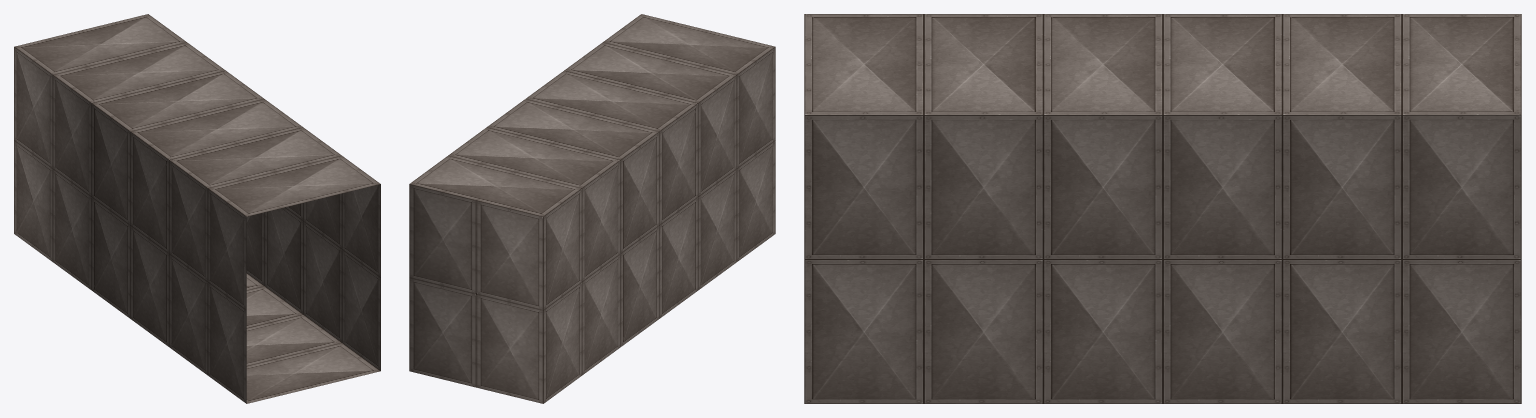
File: AirDuct_Straight_Start.FBX
3 views of the same model, side by side, from view 1: azimuth 30°, elevation 25°; view 2: azimuth 150°, elevation 25°; view 3: azimuth 270°, elevation 25° (orthographic). The views are drawn at different scales.
Parts seen in each view (by area): view 1: AirDuct_Straight_007; view 2: AirDuct_Straight_007; view 3: AirDuct_Straight_007.
Boxes of the visible parts, x1,y1,x2,y2 form: AirDuct_Straight_007: (14,14,380,403); AirDuct_Straight_007: (409,14,775,403); AirDuct_Straight_007: (804,14,1521,403).
Bounding box in the file's own units: 30.04 × 90 × 40.
